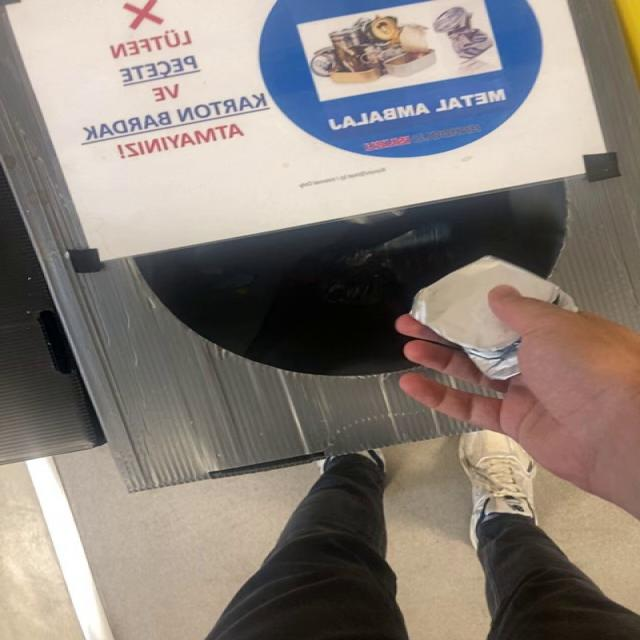bin: (0, 0, 637, 490)
metal: (411, 256, 579, 380)
